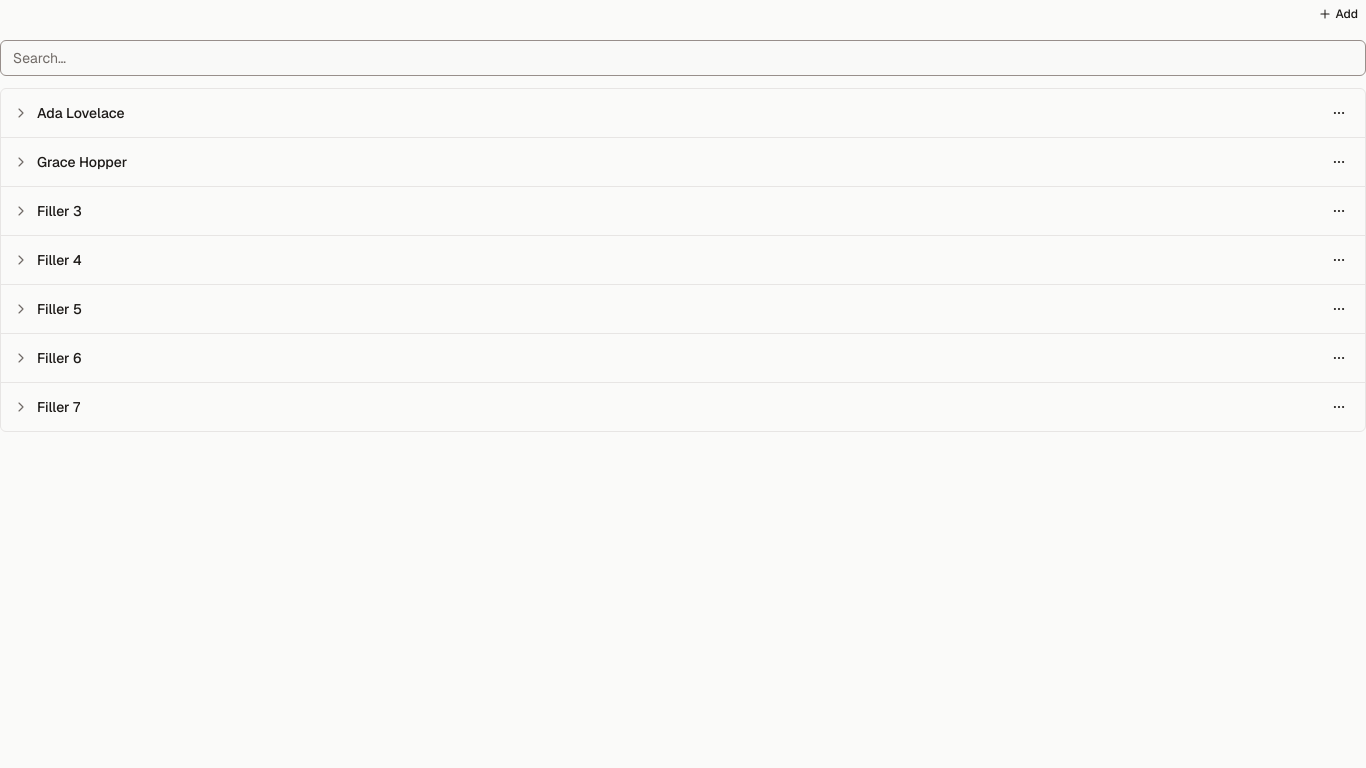
search › clears the query after successfully adding an item, so the new row is visible
The image size is (1366, 768).
In the search field: (683, 58) [0, 40, 1365, 76], type "grace"
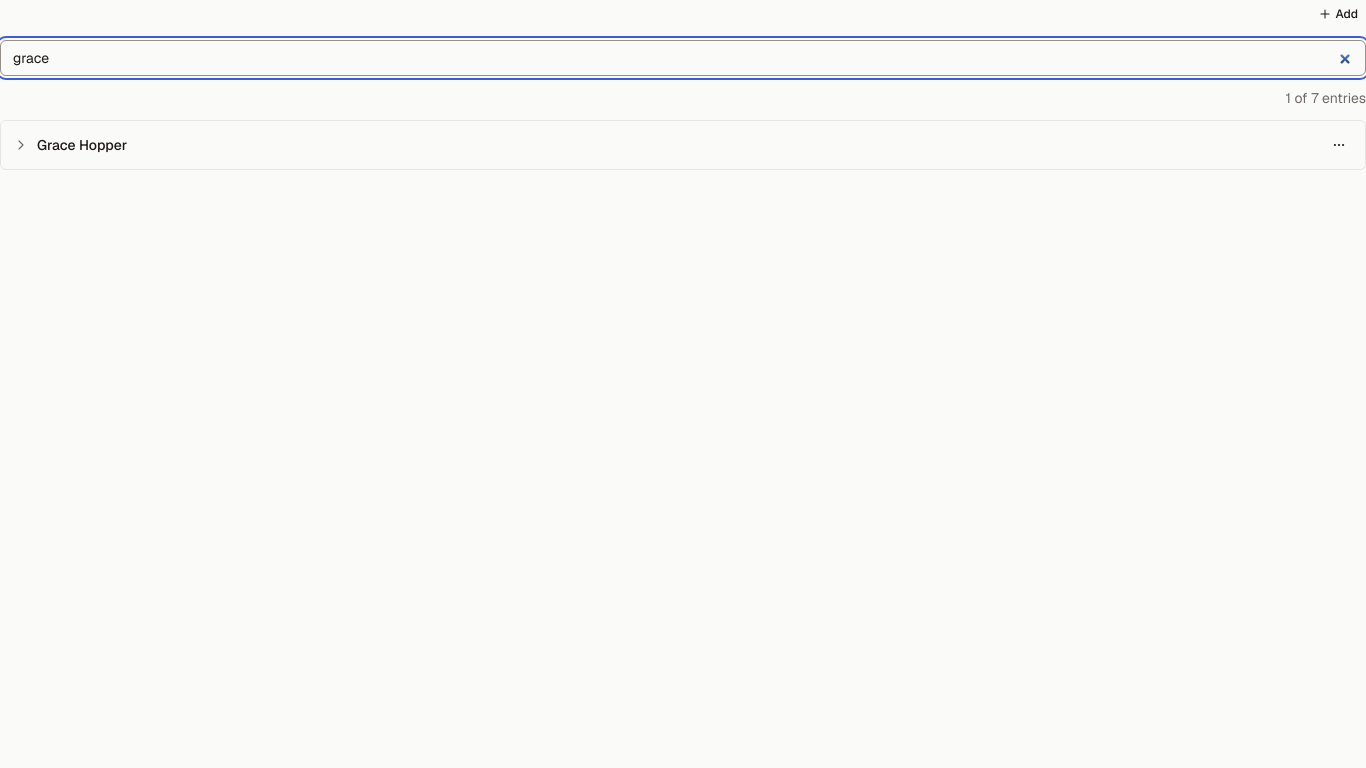
Expected: the button "Ada Lovelace" is gone
Click the button "Add": (1338, 14) [1310, 0, 1365, 28]
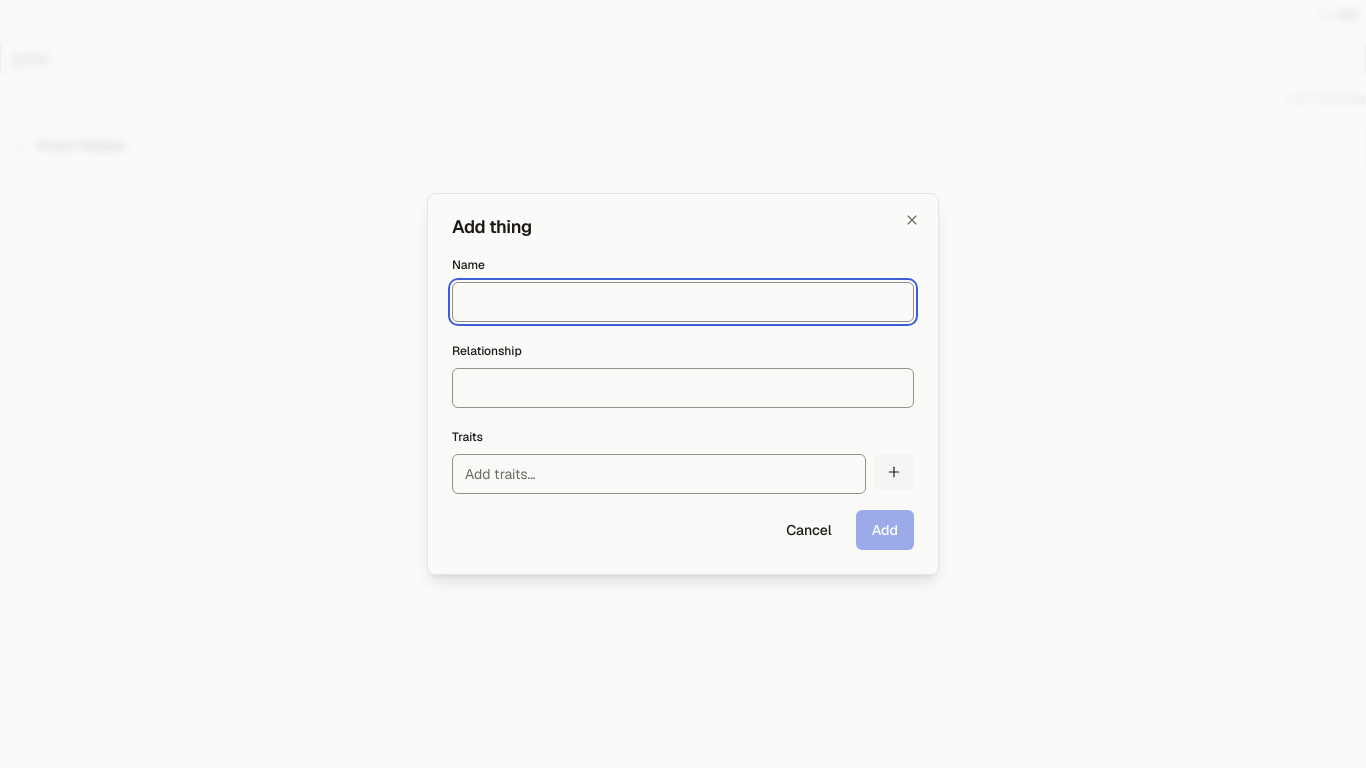
In the field below "name": (683, 302) [452, 282, 914, 322], type "Bob Smith"
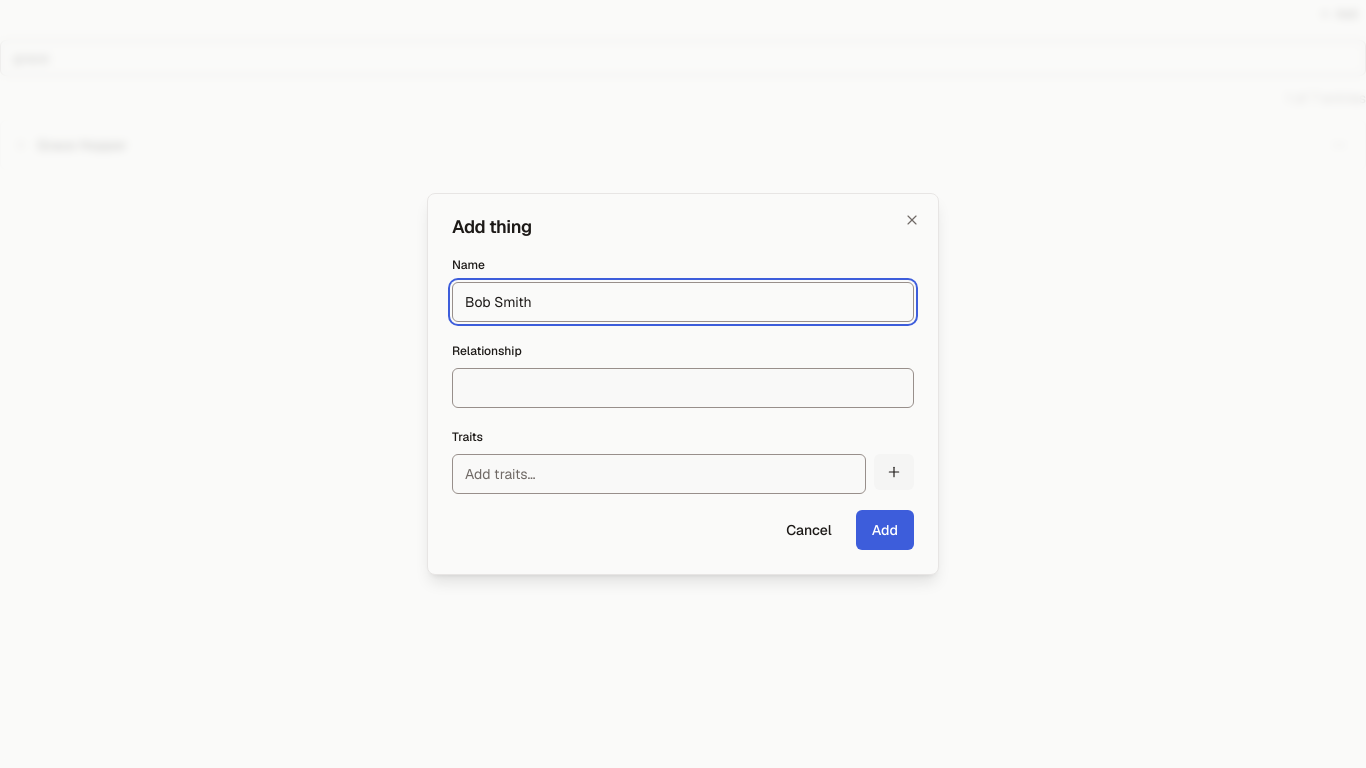
Click the button "Add": (885, 530) [856, 510, 914, 550]
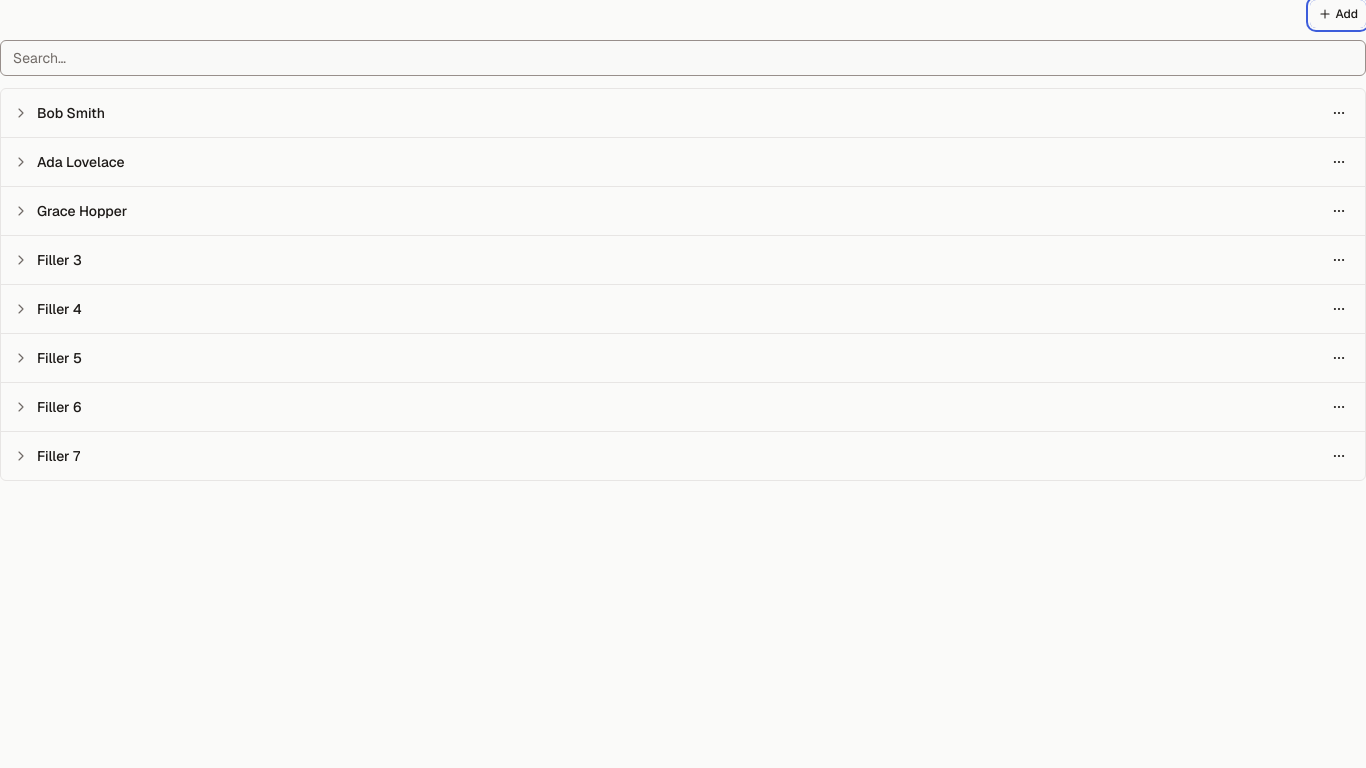
Expected: the text "Bob Smith" is shown, [37, 103, 105, 123]
Expected: the search field is empty, [0, 40, 1365, 76]
